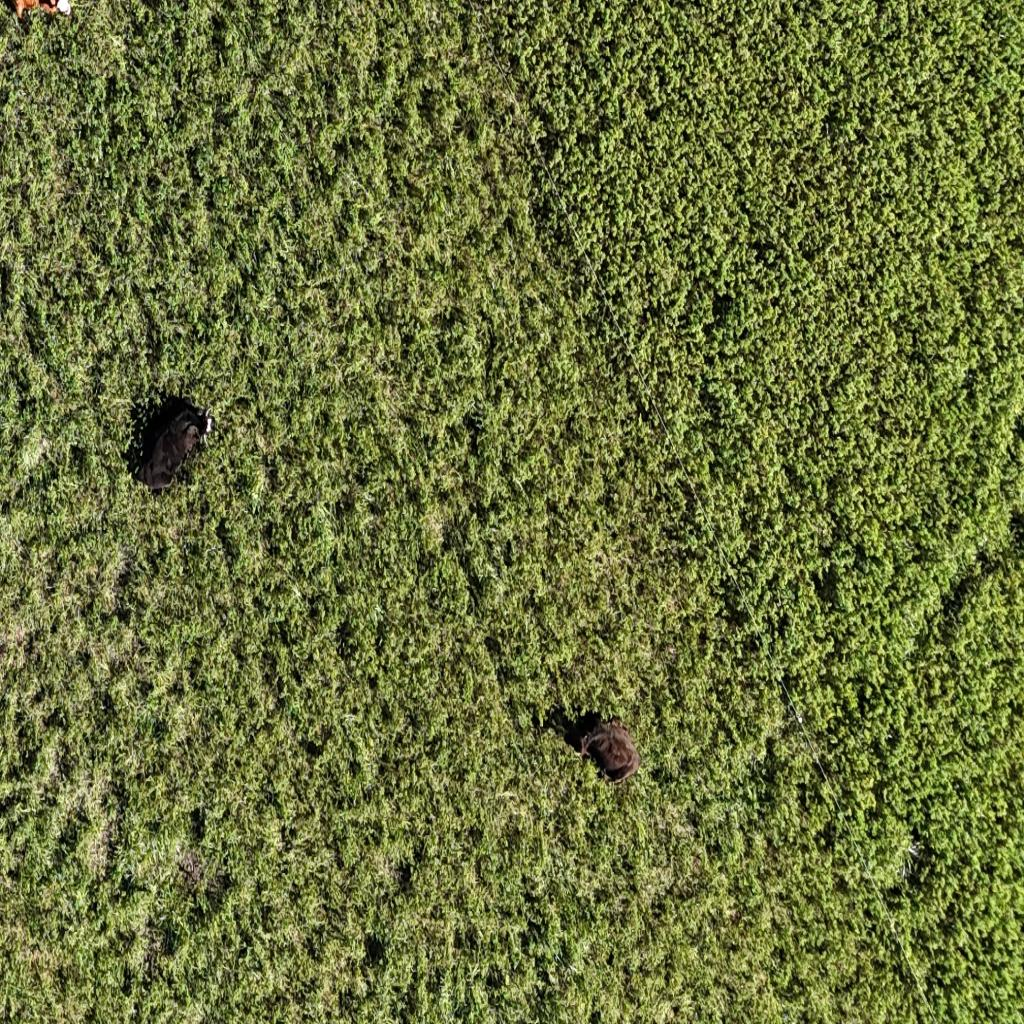cow: (132, 388, 220, 497), (555, 702, 646, 790)
